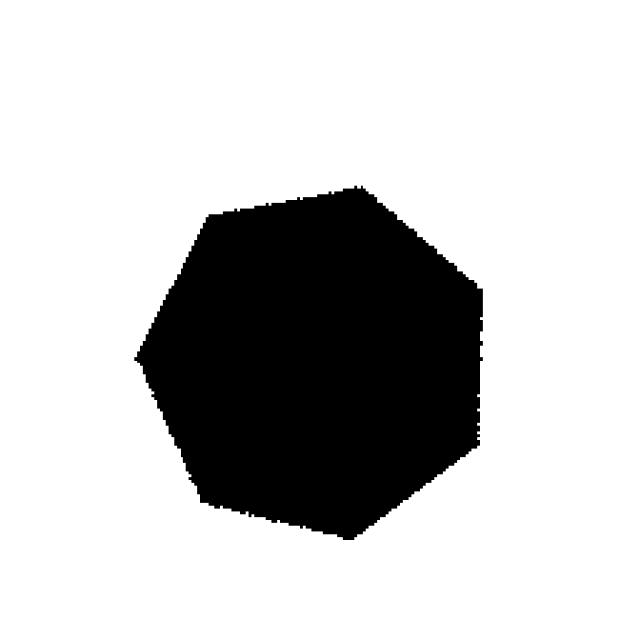Heptagon: (114, 166, 573, 551)
